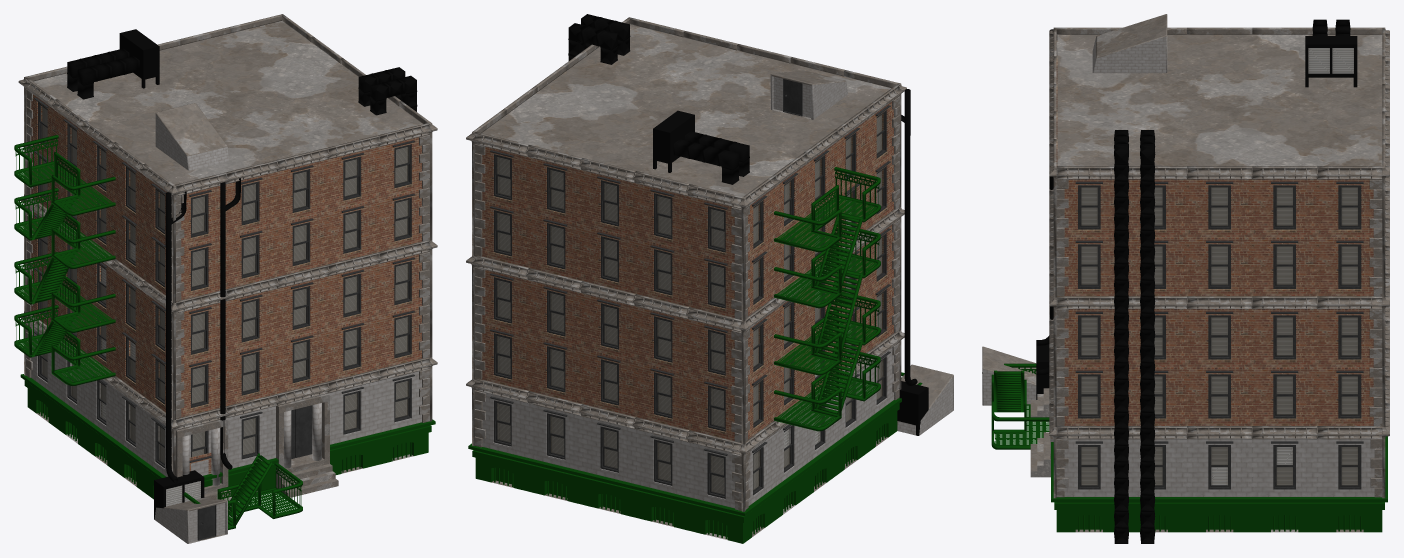
File: tenement_kit.gltf
The picture shows the model from 3 angles, left to right: view 1: azimuth 30°, elevation 25°; view 2: azimuth 150°, elevation 25°; view 3: azimuth 270°, elevation 25°; orthographic projection. The views are drawn at different scales.
Visible parts, largest first — view 1: tenement, balcony, roof_hut, entrance, downspout, ac_unit; view 2: tenement, downspout, roof_hut, ac_unit; view 3: tenement, balcony, roof_hut, ac_unit.
Part boxes in pixels (x1,y1,x2,y2): tenement: (14, 14, 437, 499); balcony: (183, 453, 302, 529); roof_hut: (154, 498, 227, 543); entrance: (176, 418, 231, 510); downspout: (165, 191, 186, 482); ac_unit: (154, 470, 204, 519); tenement: (466, 14, 906, 543); downspout: (901, 89, 917, 385); roof_hut: (897, 364, 953, 435); ac_unit: (897, 381, 928, 435); tenement: (1030, 14, 1389, 543); balcony: (991, 363, 1049, 449); roof_hut: (982, 346, 1036, 405); ac_unit: (1036, 340, 1049, 399).
Bounding box in the file's own units: 12.41 × 13.77 × 12.52.
Materials: 9 (6 with a texture image).
